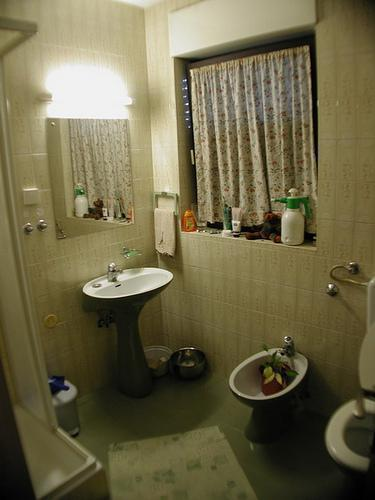Bote de Basura: (29, 367, 82, 445)
Ducha: (0, 17, 103, 499)
Lavamanos: (90, 263, 171, 394)
Otro Obstaculo: (166, 341, 208, 380), (137, 345, 171, 380)
Sanitario: (320, 273, 374, 474), (223, 341, 313, 446)
